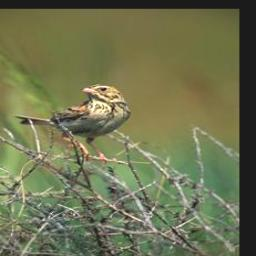Sparrow: (11, 83, 140, 169)
